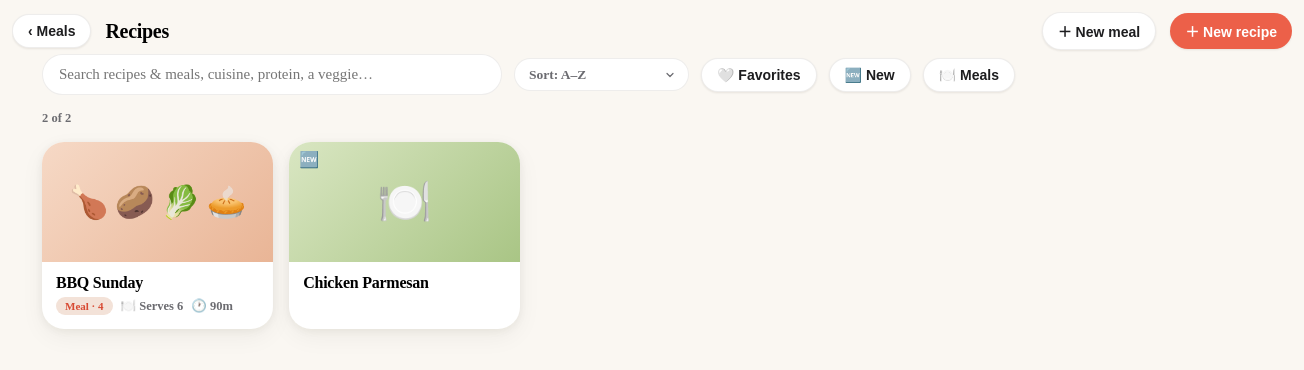
Scenario: RecipesLibrary — showing only meals › turns back off
Click the button with aria-label "Show only meals" at (969, 74), box [923,58,1015,92]
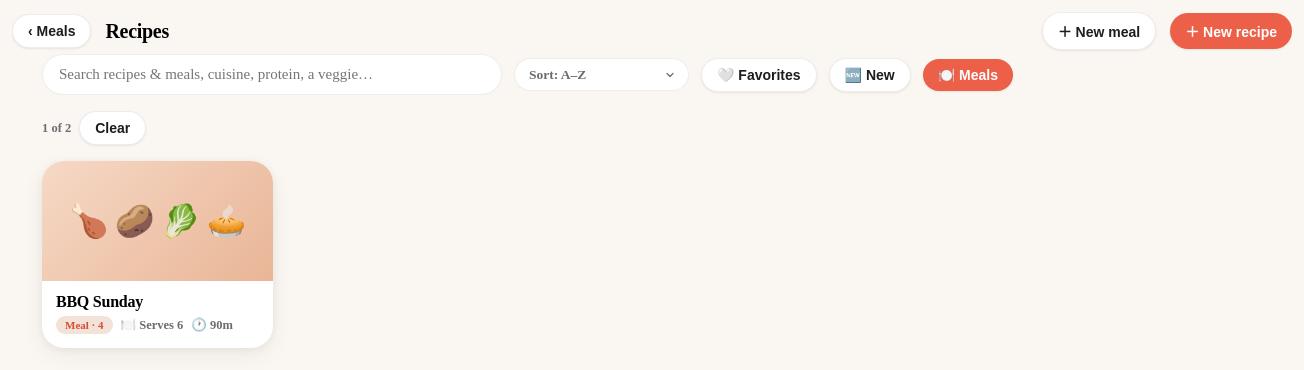
Click the button with aria-label "Show only meals" at (968, 74), box [923,58,1013,90]
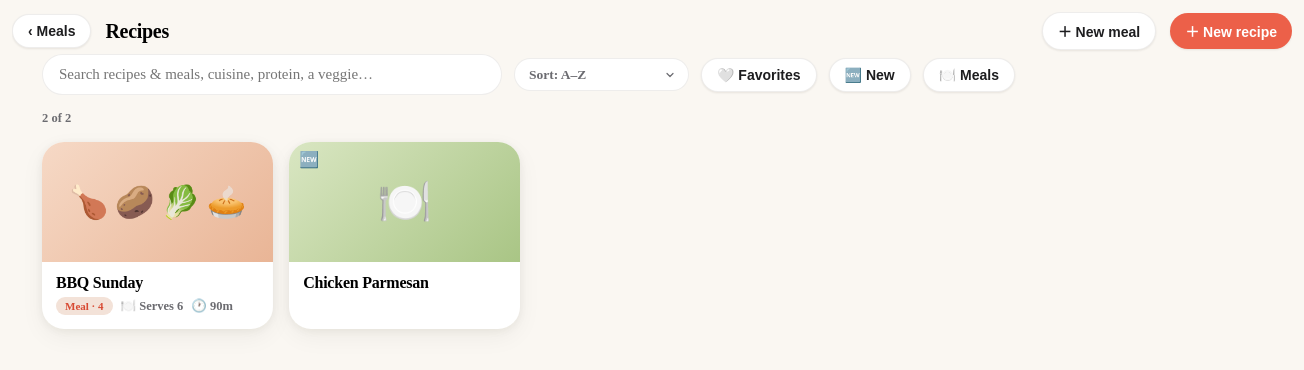
Expected: the text "Chicken Parmesan" is shown, [303,274,429,291]
